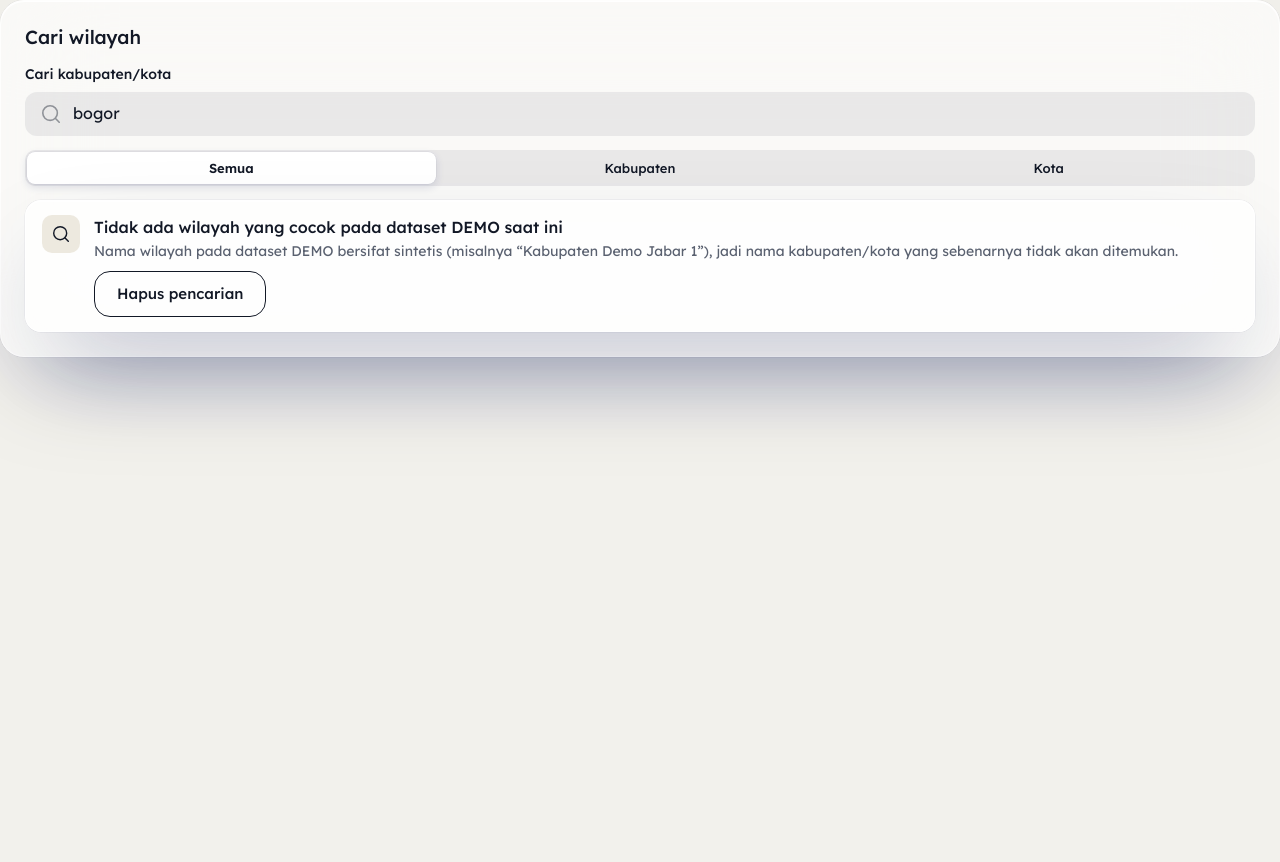
Test: RegionExplorer against the captured Data Hub responses › answers q=bogor with an honest empty state and never invents Kabupaten Bogor
The width and height of the screenshot is (1280, 862).
Check: the text "Tidak ada wilayah yang cocok pada dataset DEMO saat ini" is shown, box [94,217,563,237]
Check: the search field labelled "Cari kabupaten/kota" holds "bogor", box [73,101,1241,126]
Click the button "Hapus pencarian" at (180, 294), box [94,271,266,317]
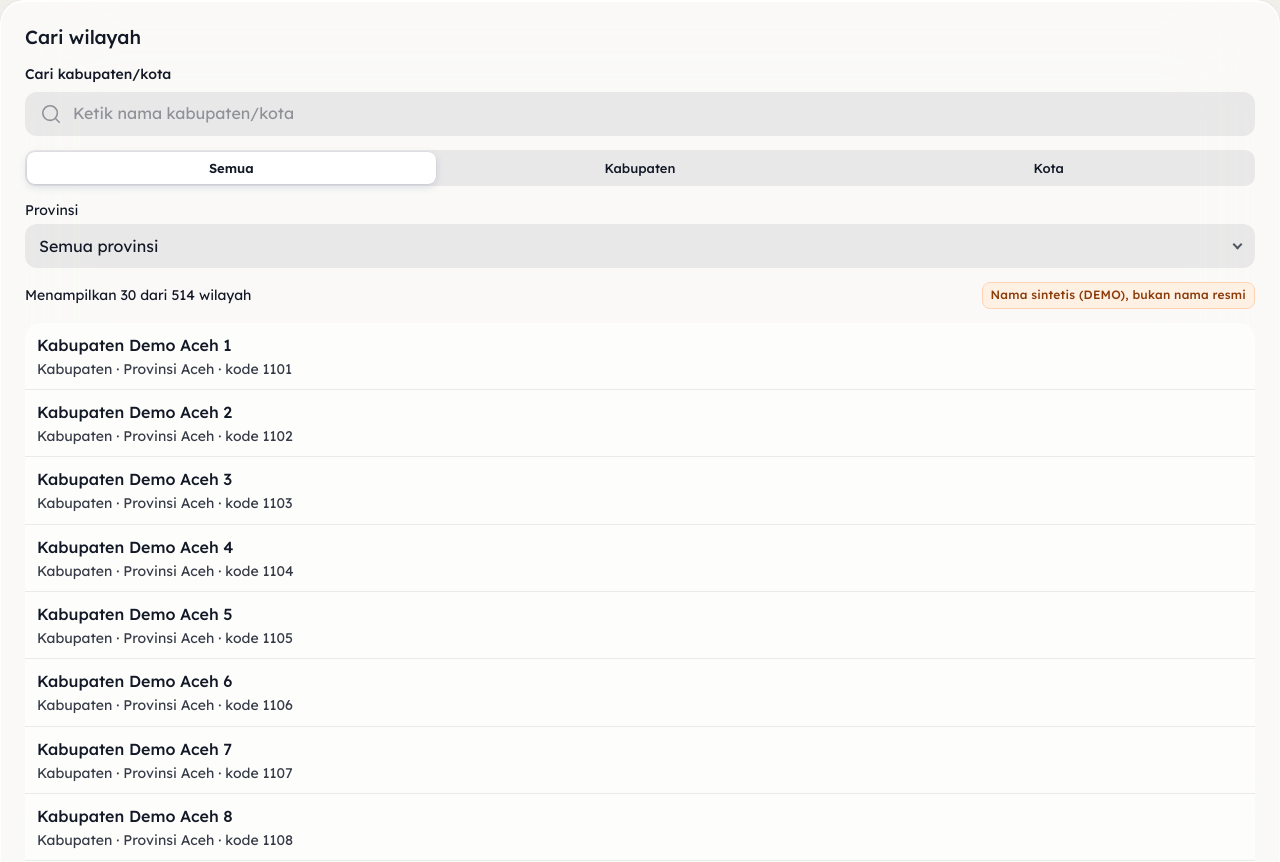
Check: the text "Menampilkan 30 dari 514 wilayah" is shown, box [25,285,251,306]
